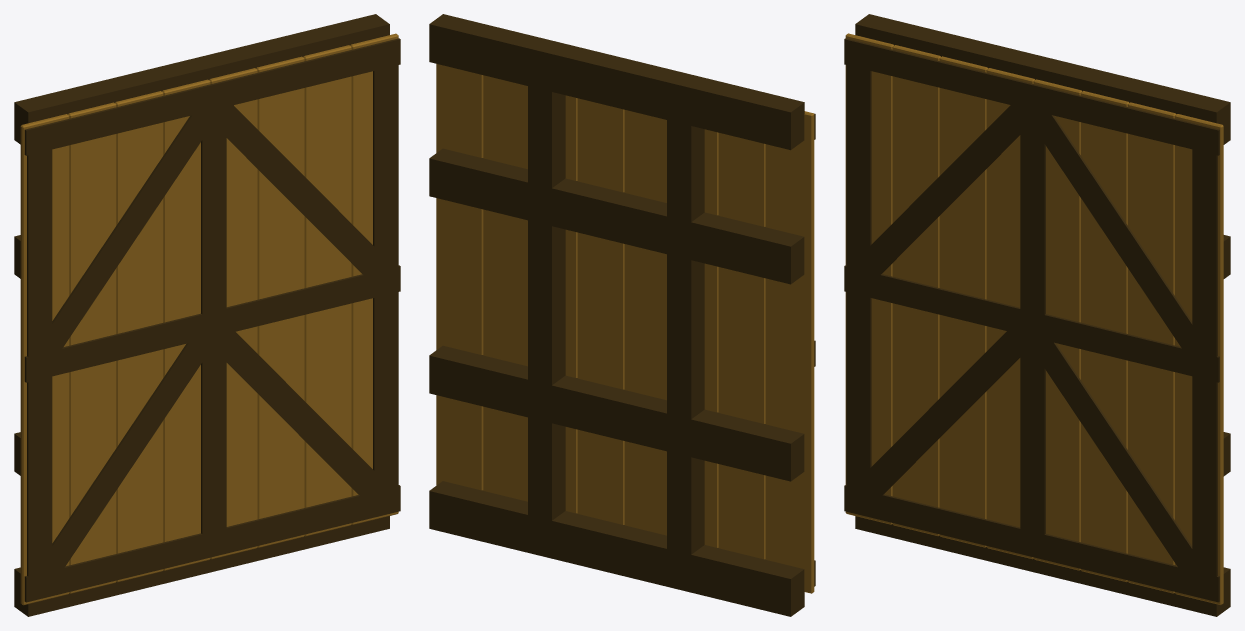
File: Zid.FBX
The picture shows the model from 3 angles, left to right: view 1: azimuth 30°, elevation 25°; view 2: azimuth 150°, elevation 25°; view 3: azimuth 330°, elevation 25°; orthographic projection.
Visible parts, largest first — view 1: zid_tarabe_prazno, zid_ukras_prazno, Zid_konstrukcija_prazno; view 2: Zid_konstrukcija_prazno, zid_tarabe_prazno; view 3: zid_tarabe_prazno, zid_ukras_prazno, Zid_konstrukcija_prazno.
Boxes of the visible parts, <box> form: zid_tarabe_prazno: <box>20,33,398,605</box>; zid_ukras_prazno: <box>24,38,400,602</box>; Zid_konstrukcija_prazno: <box>14,14,389,616</box>; Zid_konstrukcija_prazno: <box>429,14,804,616</box>; zid_tarabe_prazno: <box>436,64,814,593</box>; zid_tarabe_prazno: <box>845,33,1223,604</box>; zid_ukras_prazno: <box>844,38,1219,602</box>; Zid_konstrukcija_prazno: <box>855,14,1230,616</box>.
Size of the model in its own units: 156 by 200 by 13.2.
